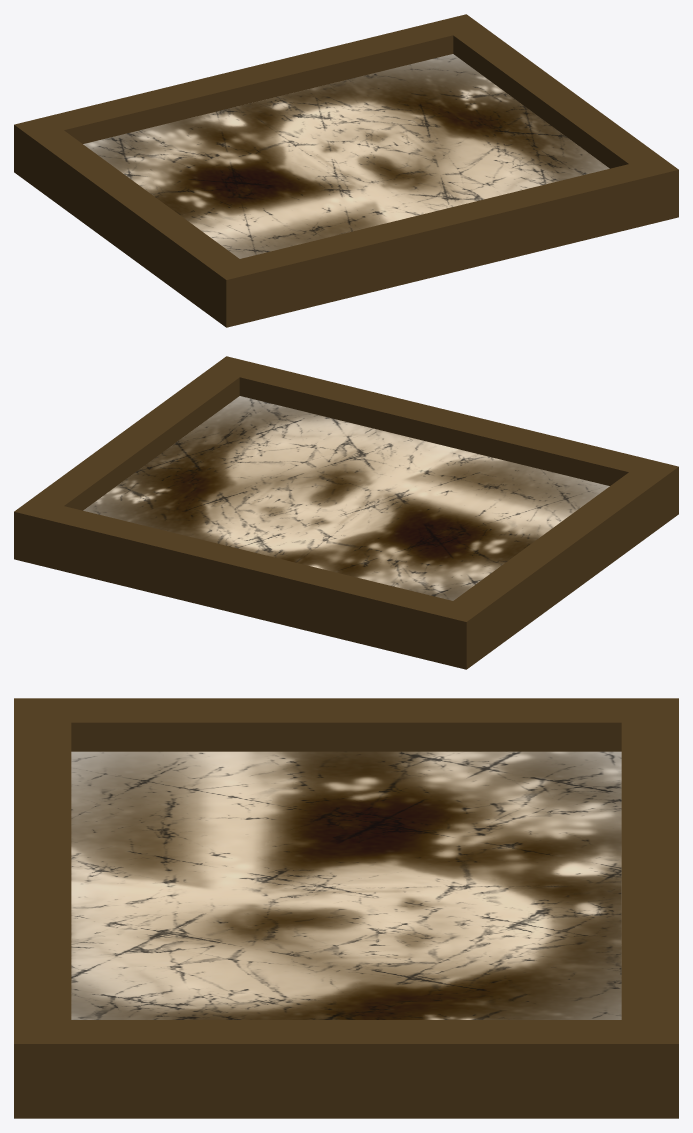
The model's file is Photo Friendship.fbx.
The picture shows the model from 3 angles, top to bottom: view 1: azimuth 30°, elevation 25°; view 2: azimuth 150°, elevation 25°; view 3: azimuth 270°, elevation 25°; orthographic projection. The views are drawn at different scales.
Parts seen in each view (by area): view 1: pCube1; view 2: pCube1; view 3: pCube1.
Part boxes in pixels (bbox=[...]): pCube1: bbox=[14, 14, 678, 327]; pCube1: bbox=[14, 356, 678, 669]; pCube1: bbox=[14, 698, 678, 1118].
Size of the model in its own units: 4.29 by 0.4318 by 3.49.
2 materials, 1 textured.
